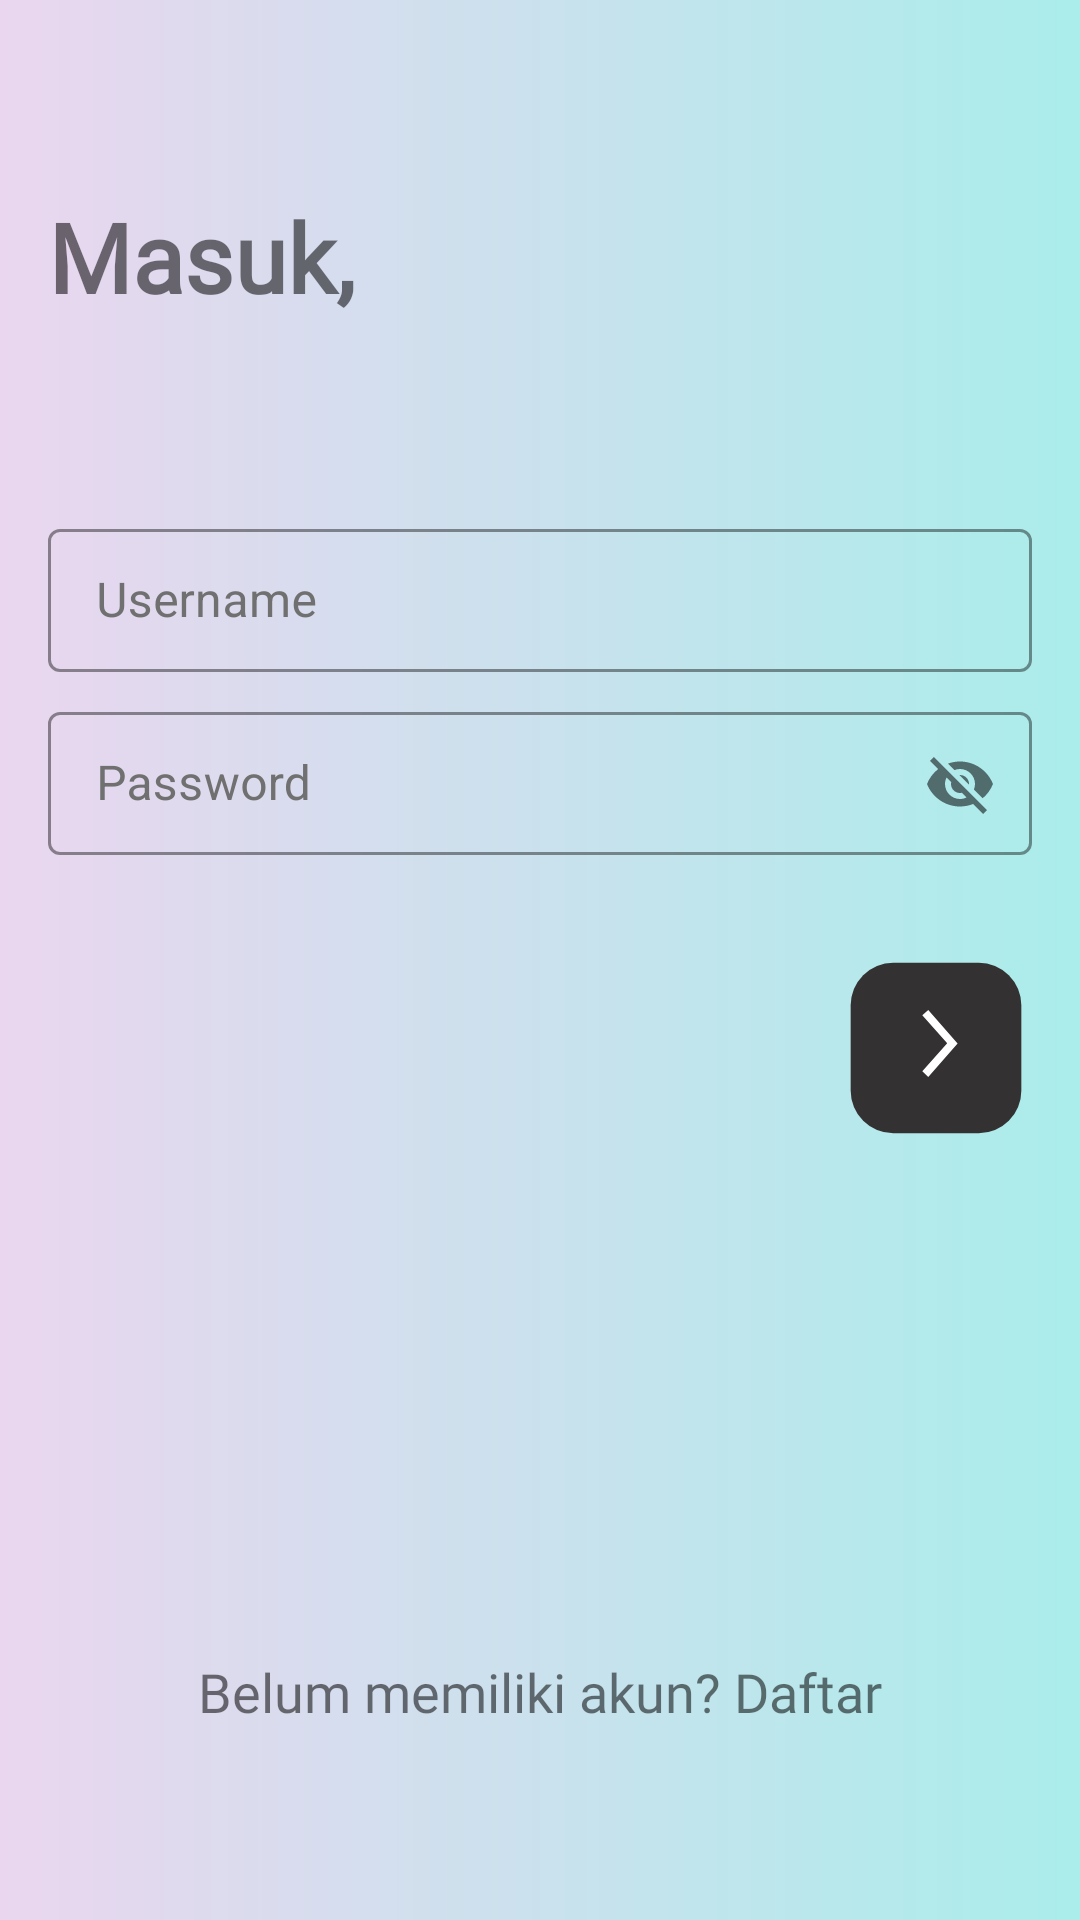

Where icons sit on this 1080px×1920px app screen, as [x1, y1, x2, y2]:
Ikon Login: [850, 962, 1022, 1134]
